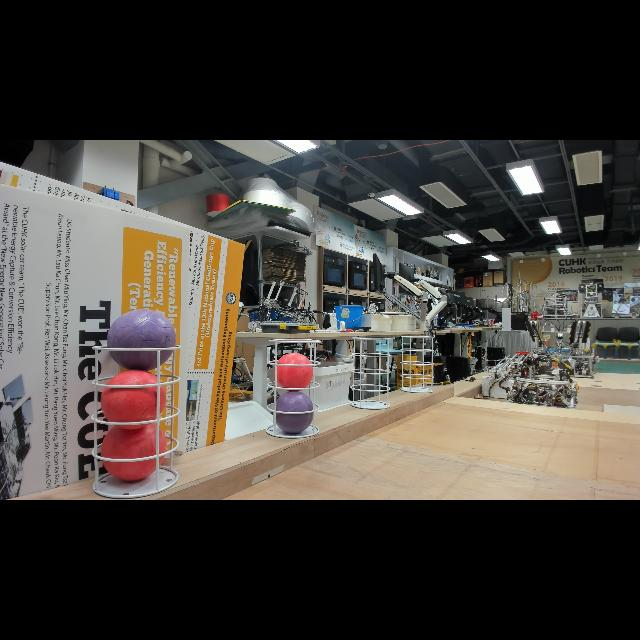P: (106, 308, 176, 372), (273, 391, 315, 434)
R: (99, 368, 168, 430), (100, 422, 168, 482), (274, 352, 314, 392)
S: (90, 342, 182, 500), (264, 338, 324, 440), (348, 336, 392, 412), (400, 335, 436, 395)
